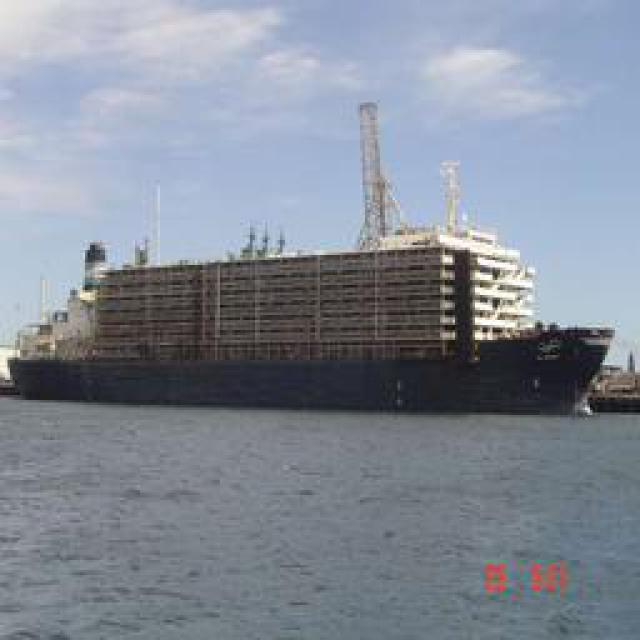Ship: (1, 233, 616, 416)
